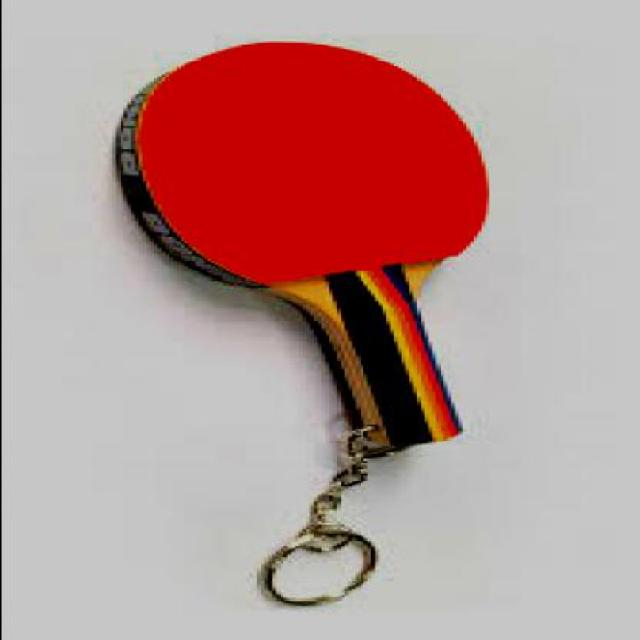table_tennis_racket: (117, 43, 492, 454)
